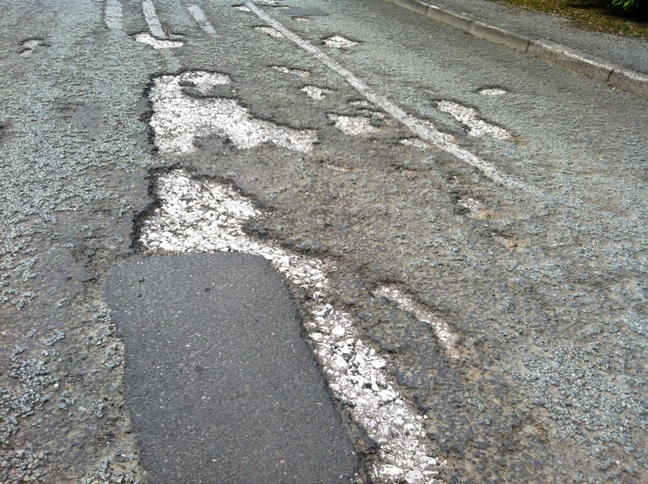pothole: (307, 251, 433, 484), (142, 60, 316, 174), (109, 159, 249, 267), (374, 275, 474, 358), (436, 99, 509, 142), (449, 179, 496, 238), (322, 105, 369, 137), (134, 29, 187, 56), (243, 20, 296, 47), (300, 72, 334, 104), (320, 30, 367, 52), (18, 30, 52, 60), (465, 81, 523, 98), (398, 132, 429, 158), (232, 1, 257, 15)
